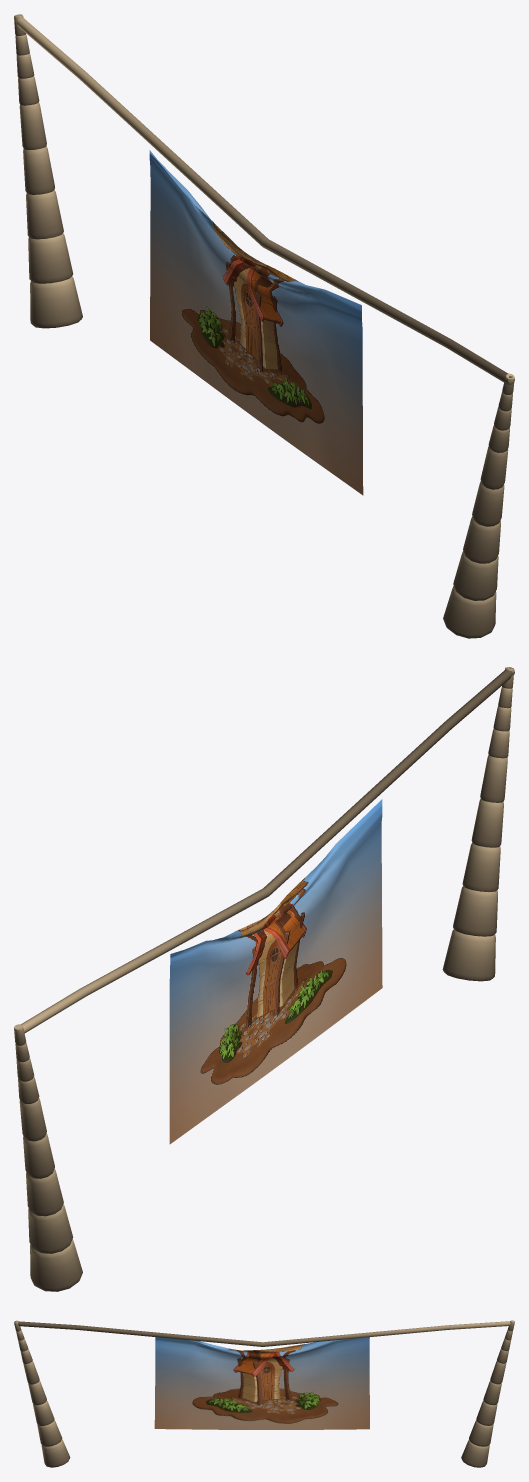
File: finish_banner.fbx
The picture shows the model from 3 angles, top to bottom: view 1: azimuth 30°, elevation 25°; view 2: azimuth 150°, elevation 25°; view 3: azimuth 270°, elevation 25°; orthographic projection. The views are drawn at different scales.
Parts seen in each view (by area): view 1: finish_banner; view 2: finish_banner; view 3: finish_banner.
Part boxes in pixels (x1,y1,x2,y2): finish_banner: (14, 14, 514, 638); finish_banner: (14, 667, 514, 1291); finish_banner: (14, 1320, 514, 1467).
Size of the model in its own units: 1.79 by 10.65 by 33.59.
Materials: 2 (2 with a texture image).
